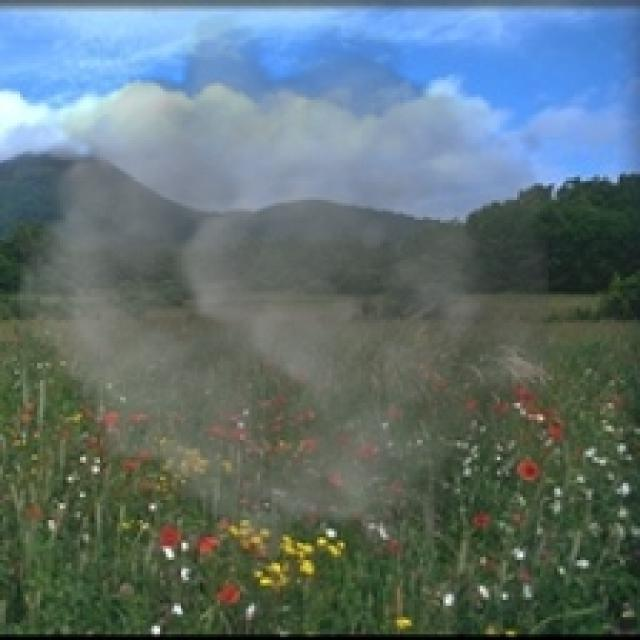smoke: (17, 14, 549, 580)
